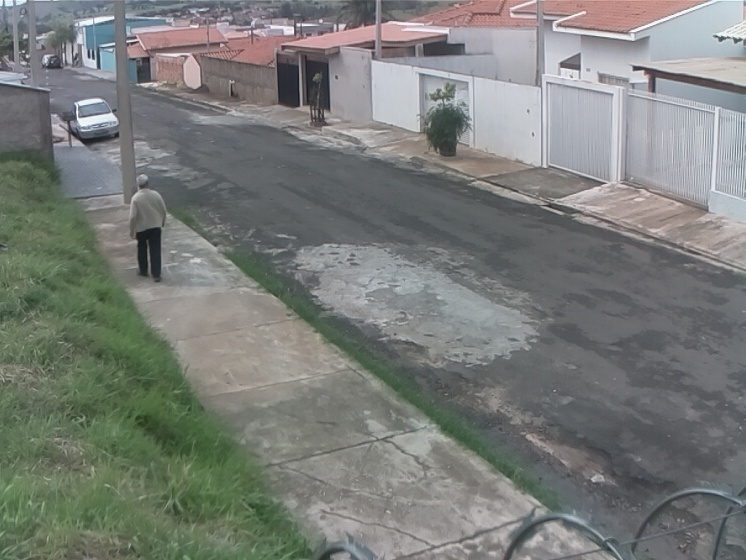person: (126, 172, 168, 288)
